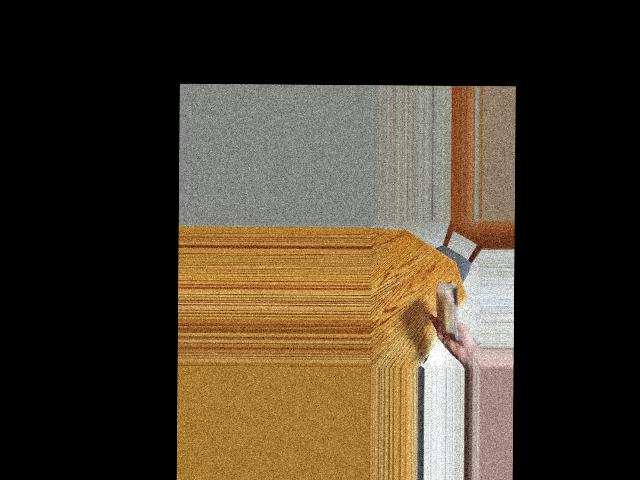cheese: (434, 285, 469, 336)
